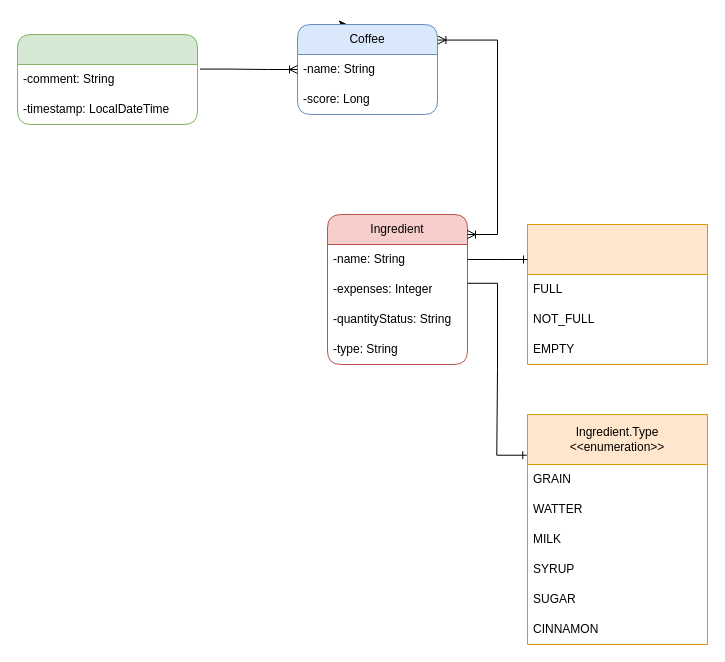
Image size: 725x662. Some labels were removed from this diagram. Each missing label, with the box of its shape:
Ingredient.Q uantityStatus <<enumeration>>: (526, 224, 708, 364)
Order: (16, 34, 198, 124)
